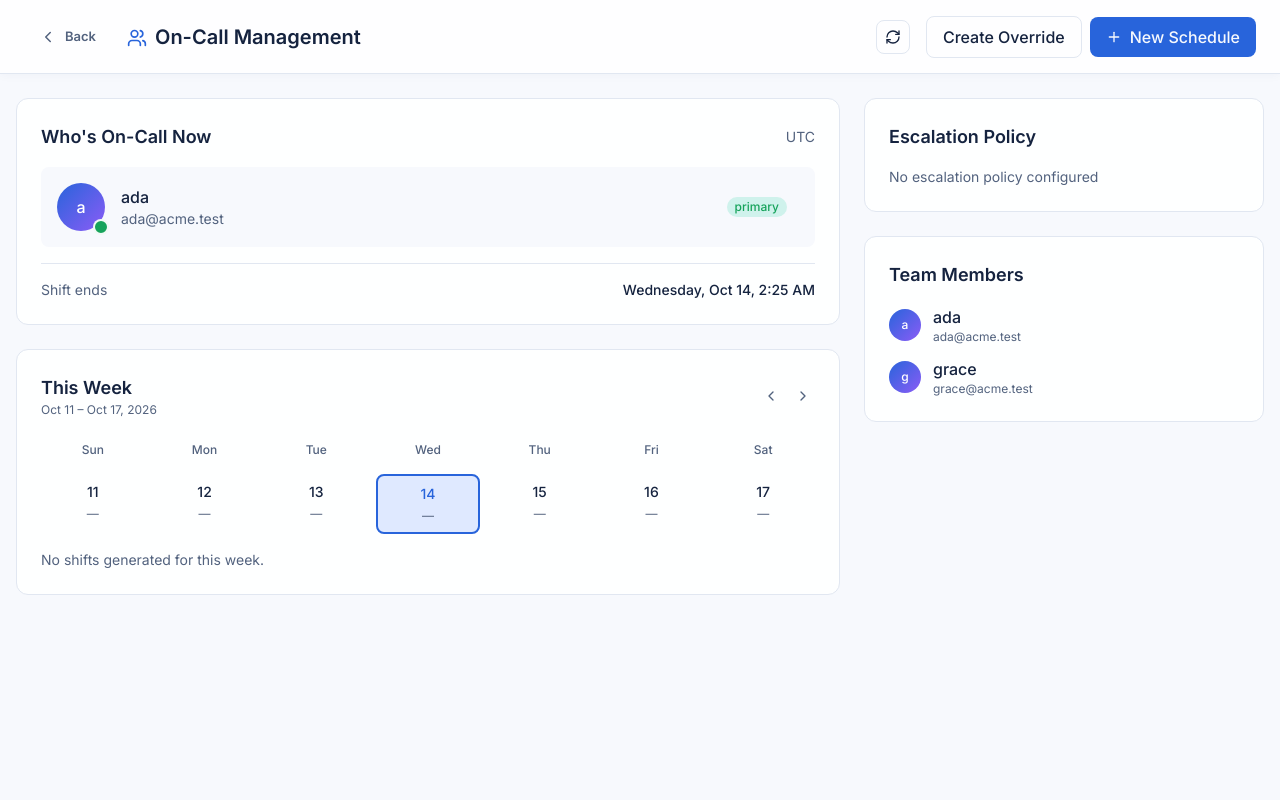
Test case: OnCall week navigation › goes back a week and returns with Today
The width and height of the screenshot is (1280, 800).
Expected: the heading "This Week" is shown, [41,377,132,398]
Click the button named "Previous week" at (771, 396), box [759,384,783,408]
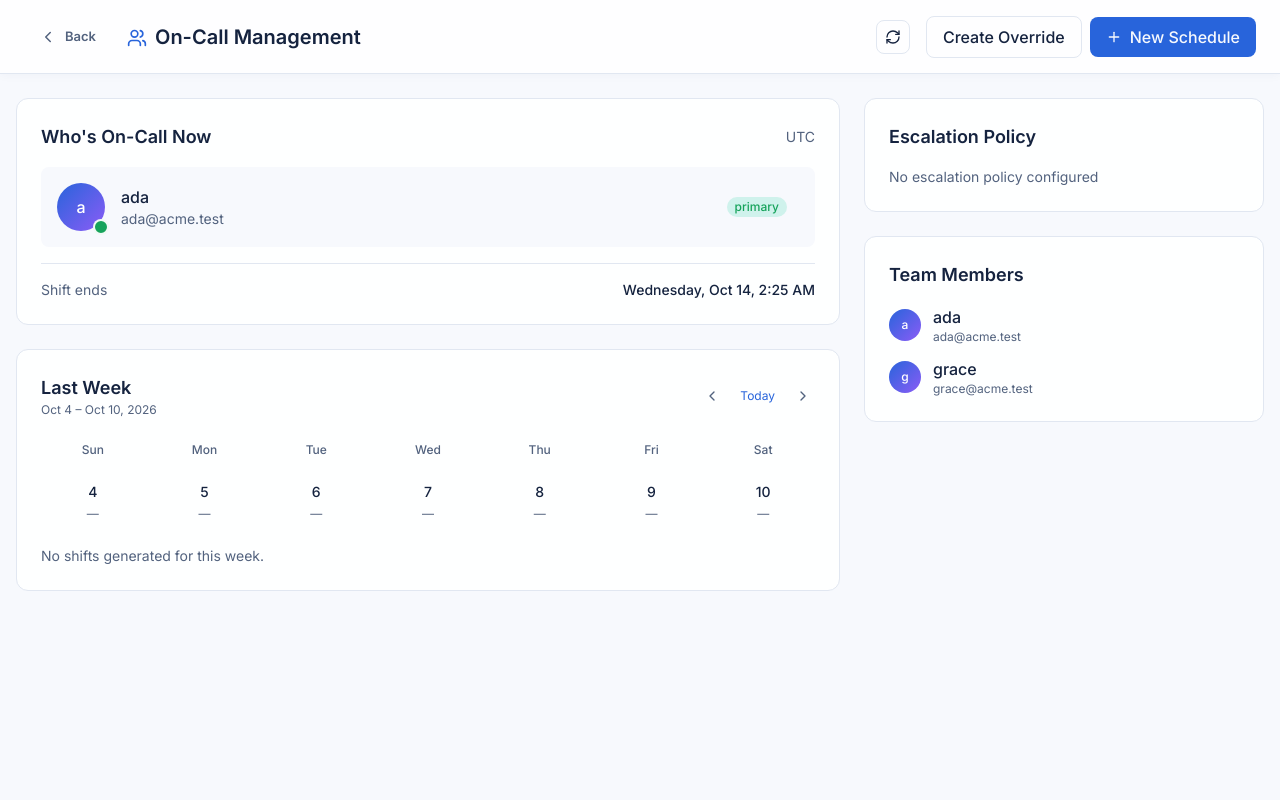
Result: the heading "Last Week" is shown at [41,377,131,398]
Click the button "Today" at (758, 396), box [732,384,783,408]
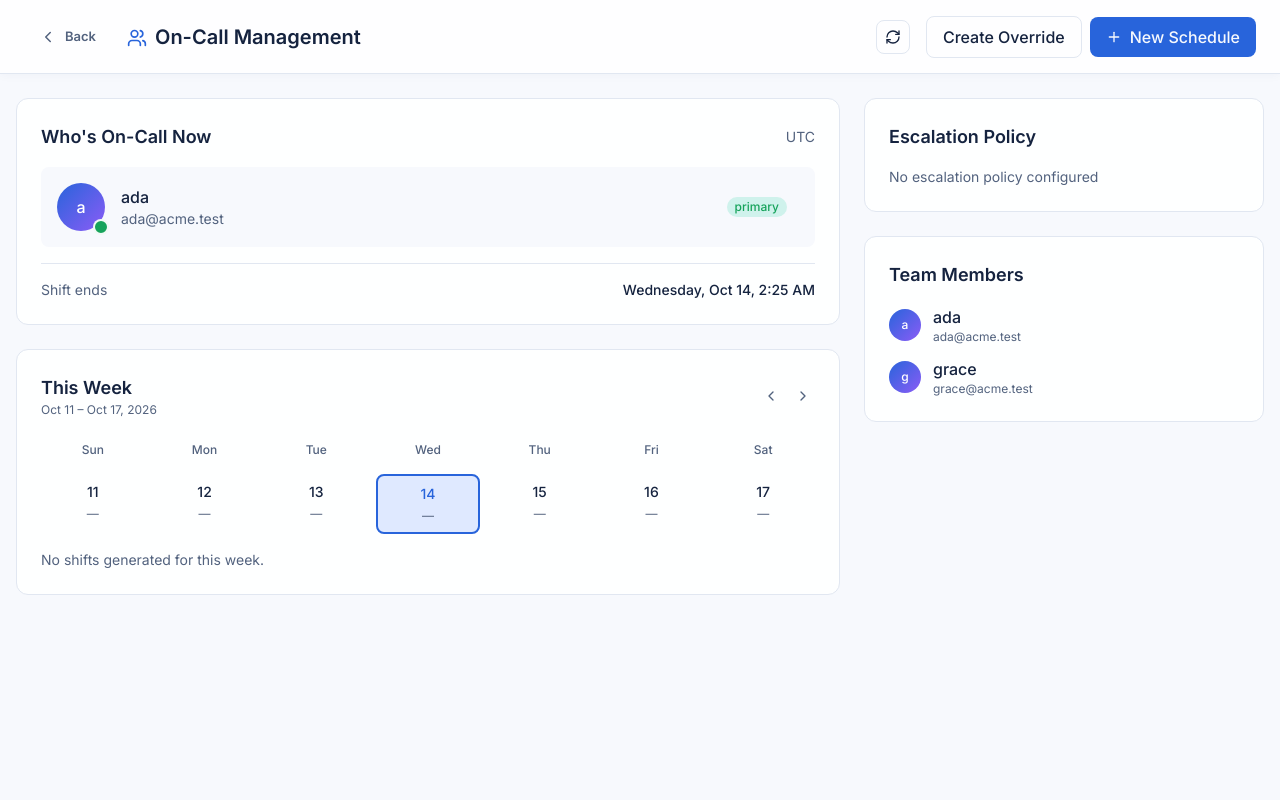
Result: the heading "This Week" is shown at [41,377,132,398]
